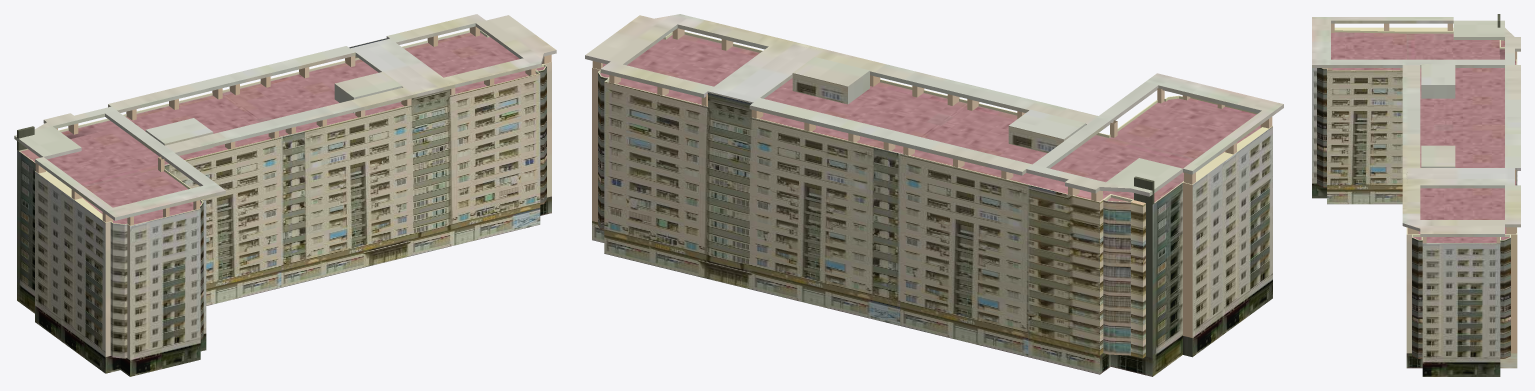
The picture shows the model from 3 angles, left to right: view 1: azimuth 30°, elevation 25°; view 2: azimuth 150°, elevation 25°; view 3: azimuth 270°, elevation 25°; orthographic projection. The views are drawn at different scales.
Parts seen in each view (by area): view 1: HN817_ToaNhaF4TrungKinh; view 2: HN817_ToaNhaF4TrungKinh; view 3: HN817_ToaNhaF4TrungKinh.
Boxes of the visible parts, box(x1,y1,x2,y2) form: HN817_ToaNhaF4TrungKinh: box(14, 14, 556, 376); HN817_ToaNhaF4TrungKinh: box(585, 14, 1283, 376); HN817_ToaNhaF4TrungKinh: box(1312, 14, 1520, 376).
Bounding box in the file's own units: 137 × 44.54 × 55.87.
1 material, 1 textured.
